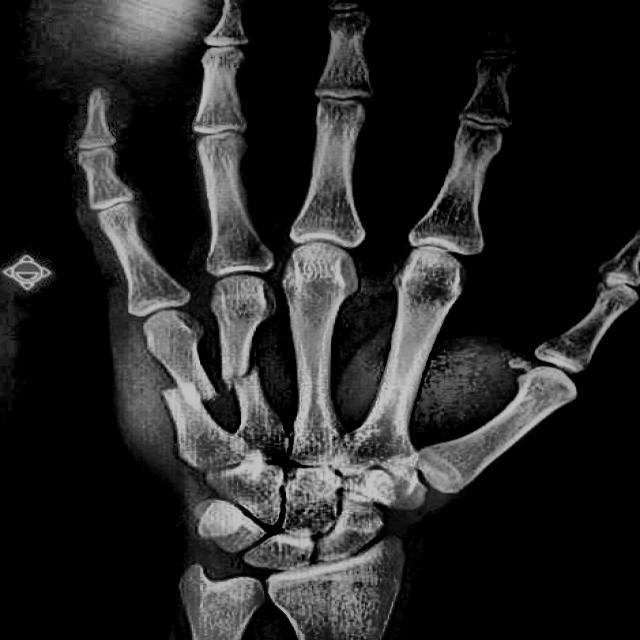fracture: (224, 363, 262, 389), (178, 382, 206, 405)
